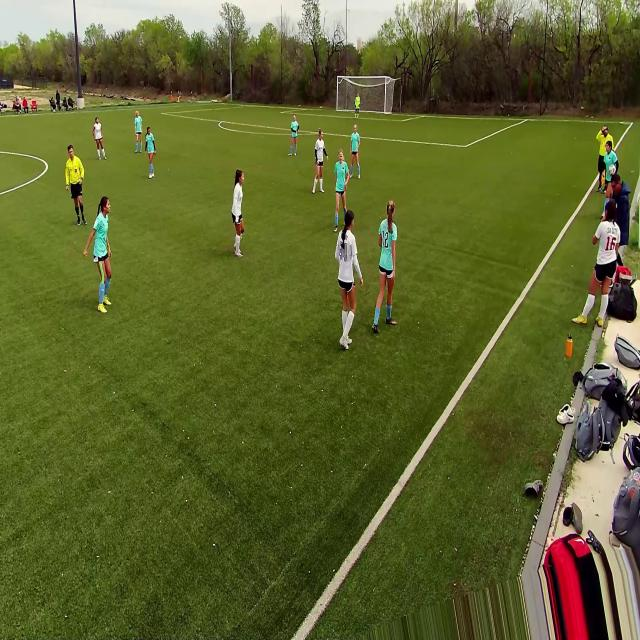ball: (608, 162, 616, 175)
team1: (375, 208, 400, 332), (90, 198, 116, 316), (334, 154, 351, 220), (348, 124, 362, 178), (147, 127, 159, 182), (288, 114, 300, 160), (133, 110, 144, 156)
team2: (579, 202, 617, 331), (335, 215, 363, 352), (229, 171, 247, 260), (312, 132, 327, 195), (93, 116, 106, 161)
